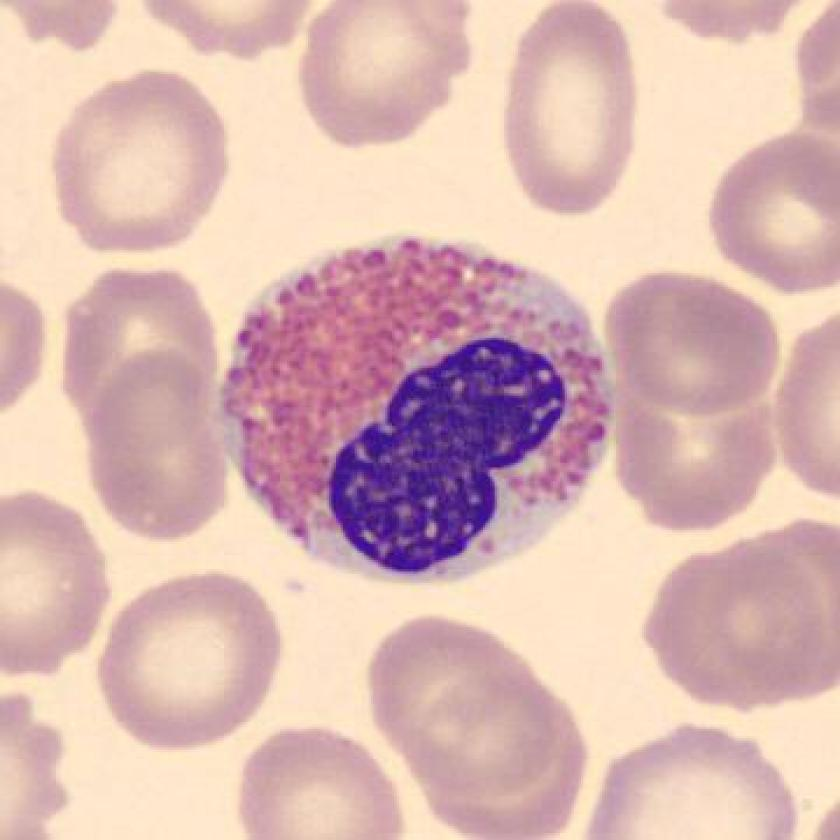eosinophil: (204, 226, 624, 603)
